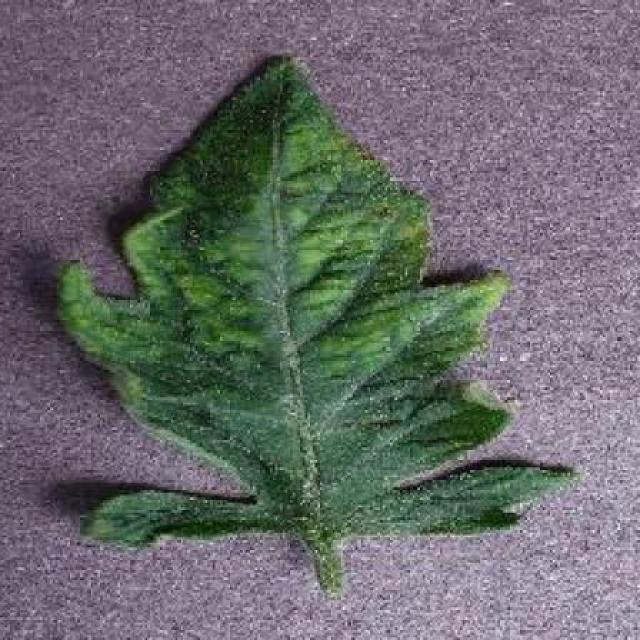Mosaic Virus: (53, 41, 581, 556)
